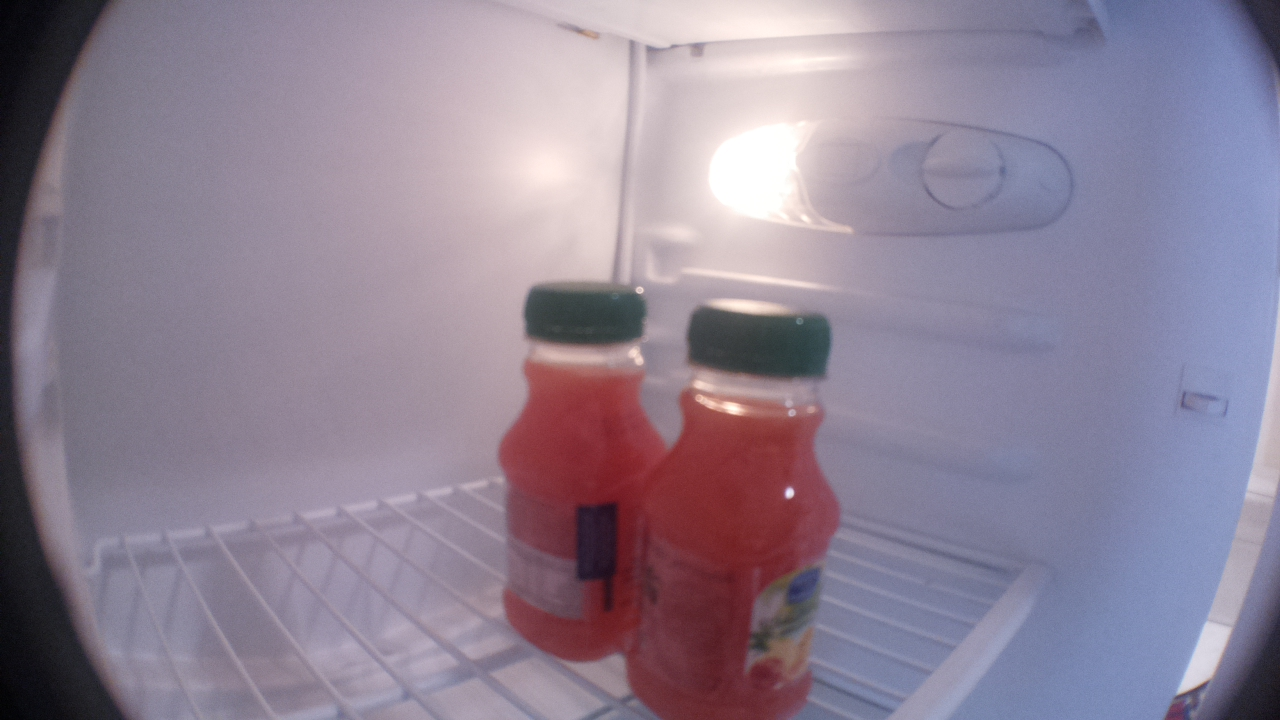juice: (623, 294, 841, 718), (489, 282, 644, 669)
